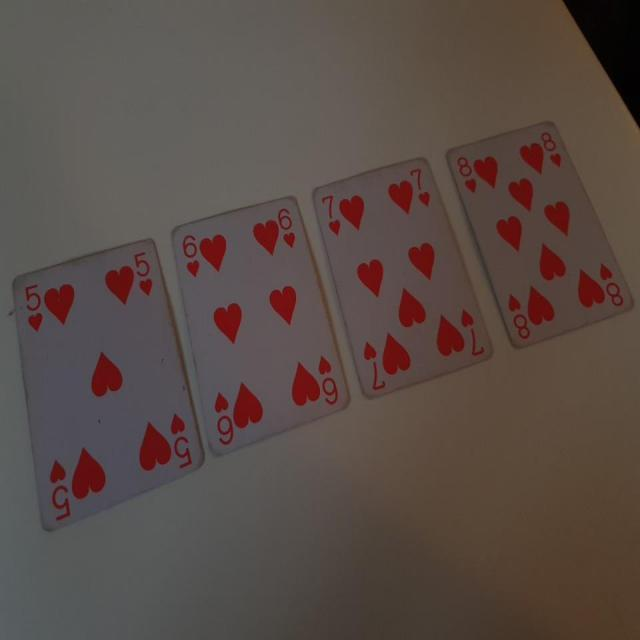5 of hearts: (8, 230, 204, 552)
6 of hearts: (174, 186, 349, 458)
7 of hearts: (304, 151, 496, 402)
8 of hearts: (450, 109, 634, 353)
